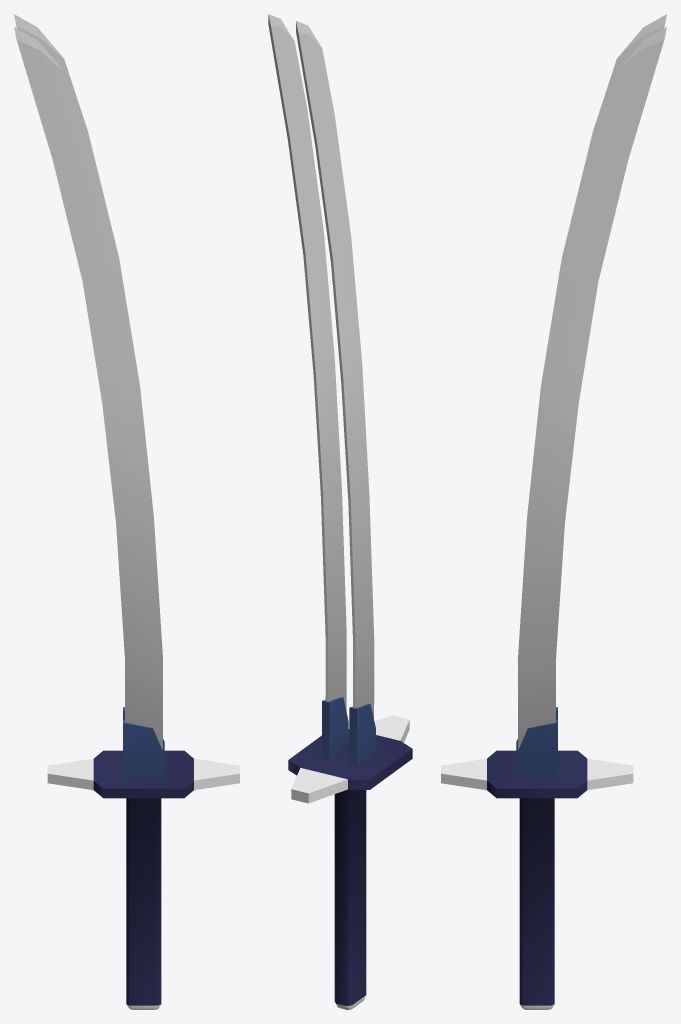
The model's file is Weapon_crossguard_katana.fbx.
3 views of the same model, side by side, from view 1: azimuth 90°, elevation 25°; view 2: azimuth 150°, elevation 25°; view 3: azimuth 270°, elevation 25° (orthographic). The views are drawn at different scales.
Parts seen in each view (by area): view 1: W_DK_2; view 2: W_DK_2; view 3: W_DK_2.
Boxes of the visible parts, left/top/right/bottom form: W_DK_2: left=14, top=14, right=239, bottom=1009; W_DK_2: left=268, top=14, right=412, bottom=1009; W_DK_2: left=441, top=14, right=666, bottom=1009.
Bounding box in the file's own units: 10.65 × 129 × 26.82.
